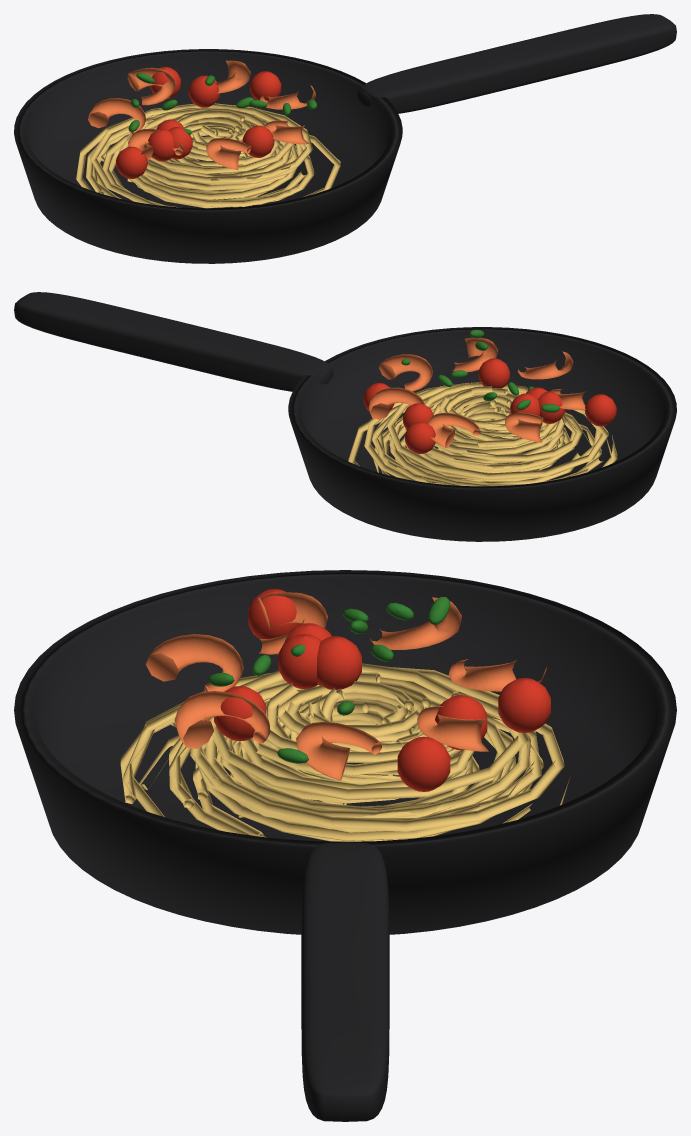
File: spaghetti-ao-camarao.glb
3 renders of one model, top to bottom at view 1: azimuth 30°, elevation 25°; view 2: azimuth 150°, elevation 25°; view 3: azimuth 270°, elevation 25°, orthographic. The views are drawn at different scales.
Parts seen in each view (by area): view 1: spaghetti-ao-camarao; view 2: spaghetti-ao-camarao; view 3: spaghetti-ao-camarao.
Part boxes in pixels (bbox=[...]): spaghetti-ao-camarao: bbox=[14, 14, 676, 263]; spaghetti-ao-camarao: bbox=[14, 292, 676, 541]; spaghetti-ao-camarao: bbox=[14, 570, 676, 1121].
Bounding box in the file's own units: 0.45 × 0.0718 × 0.24.
